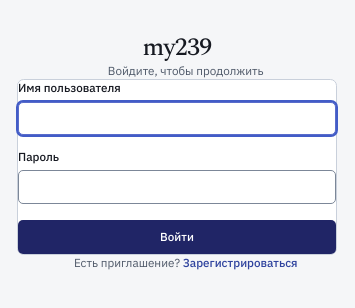
Test case: LoginPage › shows client-side validation errors before hitting the network
The image size is (355, 308).
In the field labelled "Имя пользователя": (177, 119) [18,102,336,135], type "ab"
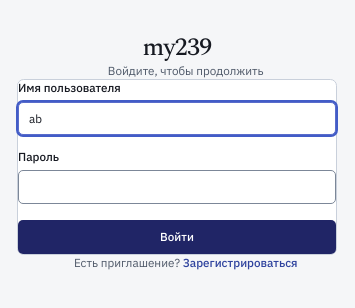
Click the button "Войти": (177, 237) [18,220,336,254]
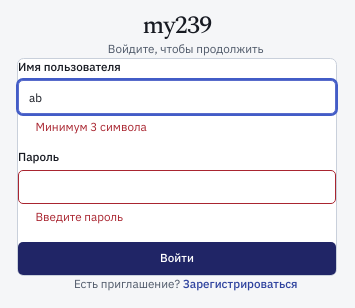
Result: the text "Минимум 3 символа" is shown at [36,119,147,134]
Result: the text "Введите пароль" is shown at [36,209,123,224]
